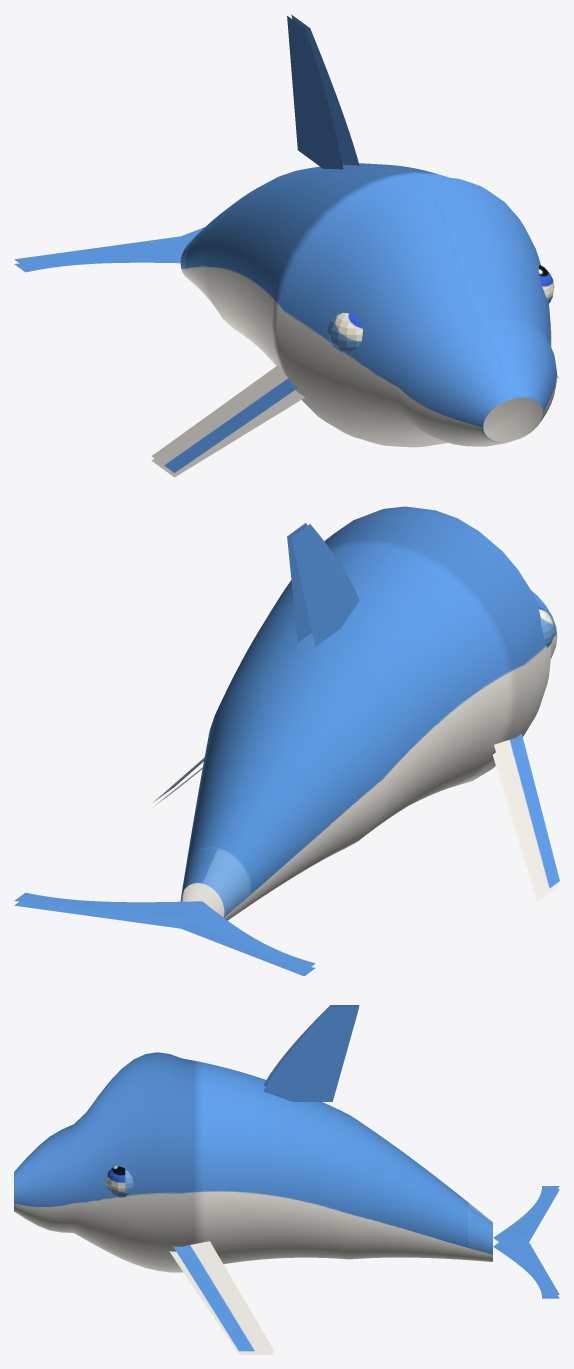
File: dolphin.glb
3 views of the same model, one above another, from view 1: azimuth 30°, elevation 25°; view 2: azimuth 150°, elevation 25°; view 3: azimuth 270°, elevation 25° (orthographic). The views are drawn at different scales.
Parts seen in each view (by area): view 1: dolphin-smooth; view 2: dolphin-smooth; view 3: dolphin-smooth.
Boxes of the visible parts, x1,y1,x2,y2 form: dolphin-smooth: (14, 14, 558, 477); dolphin-smooth: (14, 506, 559, 976); dolphin-smooth: (14, 1005, 559, 1354).
Bounding box in the file's own units: 1.54 × 1.37 × 2.45.
Materials: 1 (1 with a texture image).
